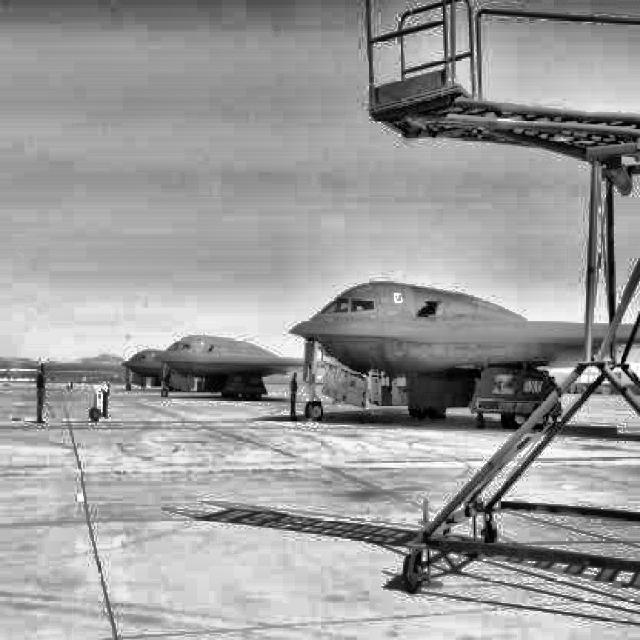B2: (287, 281, 640, 430), (152, 335, 337, 400), (121, 349, 179, 391)
